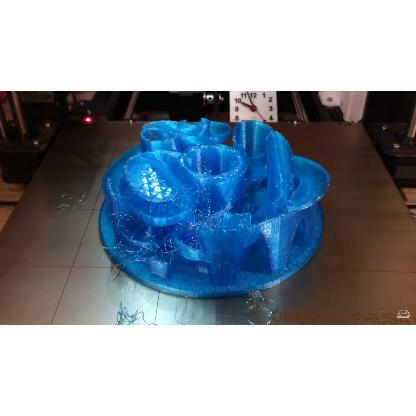fail: (118, 225, 190, 265), (110, 306, 154, 324)
